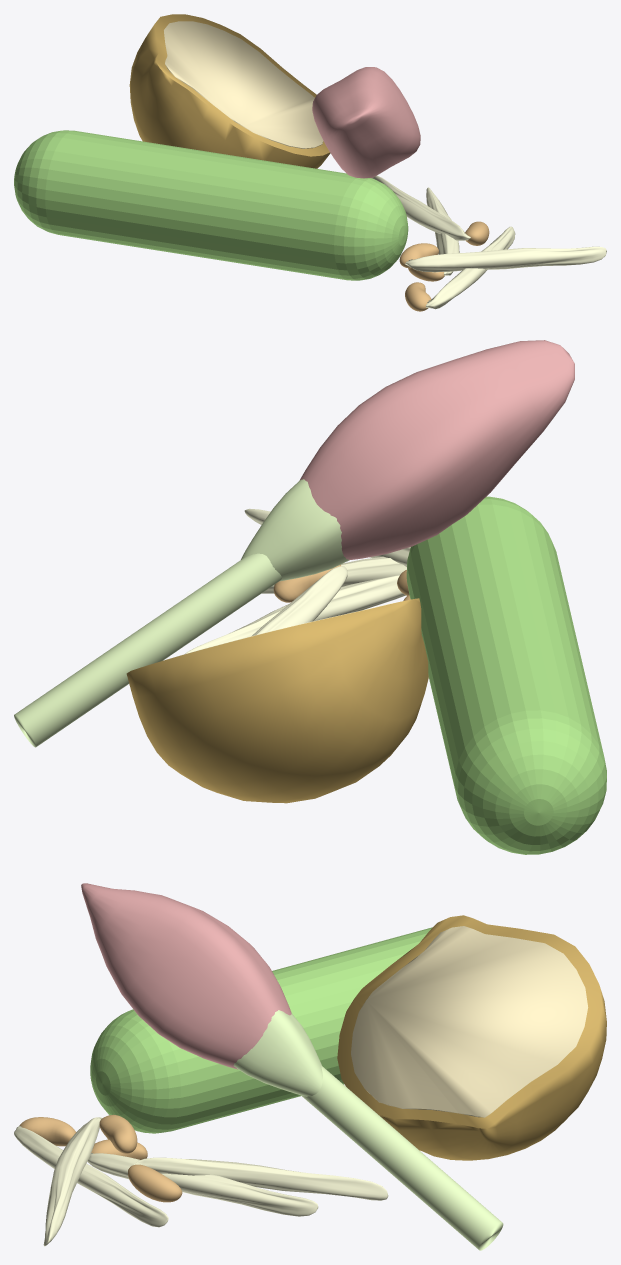
The model's file is precutveges.fbx.
3 views of the same model, one above another, from view 1: azimuth 30°, elevation 25°; view 2: azimuth 150°, elevation 25°; view 3: azimuth 270°, elevation 25° (orthographic). The views are drawn at different scales.
Parts seen in each view (by area): view 1: Sphere.070, Sphere.069, Sphere.068, Sphere.073, Sphere.079, Sphere.077, Sphere.075, Sphere.071, Sphere.076, Sphere.080, Sphere.078; view 2: Sphere.070, Sphere.068, Sphere.073, Cylinder.039, Sphere.074, Sphere.071, Sphere.077, Sphere.075, Sphere.078; view 3: Sphere.069, Sphere.073, Sphere.070, Sphere.068, Cylinder.039, Sphere.077, Sphere.074, Sphere.071, Sphere.075, Sphere.079, Sphere.078, Sphere.080 (+2 smaller).
Part boxes in pixels (box(x1,y1,x2,y2)): Sphere.070: box(14, 130, 408, 280); Sphere.069: box(164, 21, 323, 148); Sphere.068: box(129, 14, 330, 168); Sphere.073: box(312, 67, 420, 178); Sphere.079: box(405, 246, 606, 272); Sphere.077: box(372, 175, 470, 240); Sphere.075: box(426, 226, 515, 309); Sphere.071: box(426, 187, 459, 275); Sphere.076: box(405, 282, 431, 311); Sphere.080: box(399, 243, 438, 268); Sphere.078: box(465, 221, 489, 245); Sphere.070: box(406, 496, 606, 854); Sphere.068: box(126, 598, 428, 803); Sphere.073: box(300, 340, 574, 560); Cylinder.039: box(14, 553, 281, 747); Sphere.074: box(241, 479, 348, 581); Sphere.071: box(185, 575, 405, 653); Sphere.077: box(252, 566, 347, 635); Sphere.075: box(261, 556, 406, 593); Sphere.078: box(273, 564, 340, 602); Sphere.069: box(351, 926, 588, 1117); Sphere.073: box(81, 883, 291, 1069); Sphere.070: box(90, 927, 432, 1133); Sphere.068: box(337, 915, 606, 1160); Cylinder.039: box(301, 1066, 503, 1250); Sphere.077: box(134, 1157, 388, 1200); Sphere.074: box(233, 1010, 322, 1096); Sphere.071: box(87, 1153, 318, 1216); Sphere.075: box(14, 1126, 168, 1227); Sphere.079: box(43, 1117, 102, 1246); Sphere.078: box(128, 1164, 182, 1202); Sphere.080: box(99, 1114, 137, 1153).
Size of the model in its own units: 244 by 117 by 249.
